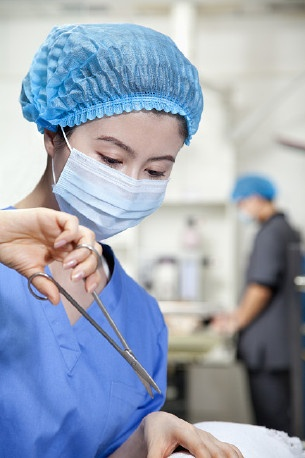Mask: (52, 125, 170, 244)
